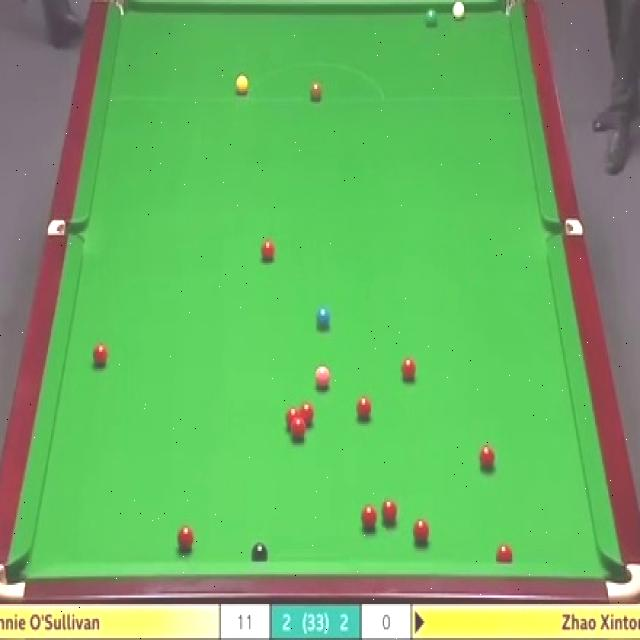black-ball: (251, 539, 269, 563)
blue-ball: (316, 306, 332, 332)
brown-ball: (308, 78, 322, 102)
green-ball: (423, 7, 439, 28)
pink-ball: (315, 361, 331, 389)
red-ball: (381, 497, 398, 530), (400, 356, 418, 386), (91, 343, 109, 372), (360, 503, 378, 531), (478, 444, 496, 471), (412, 518, 429, 546), (356, 395, 372, 422), (178, 524, 194, 550), (260, 238, 276, 263), (300, 402, 315, 428), (496, 542, 514, 563), (292, 420, 306, 440), (286, 407, 299, 428)
white-ball: (450, 1, 466, 24)
yellow-ball: (234, 74, 248, 95)
